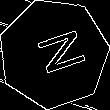N_W: (23, 26, 84, 81)
